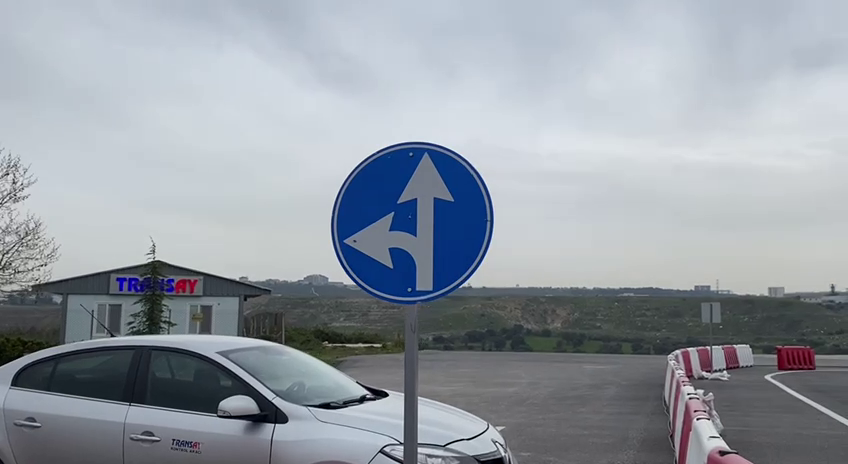forwardAndLeft: (327, 137, 496, 307)
